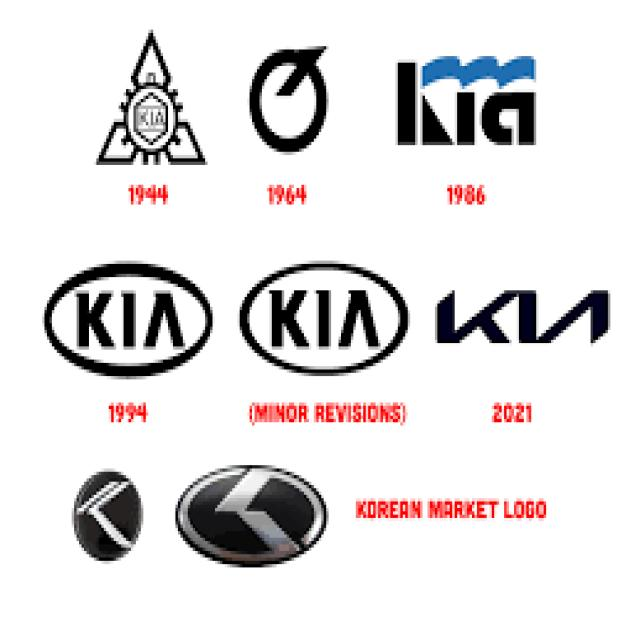kia: (38, 260, 216, 385), (238, 261, 411, 374), (431, 281, 615, 350)
